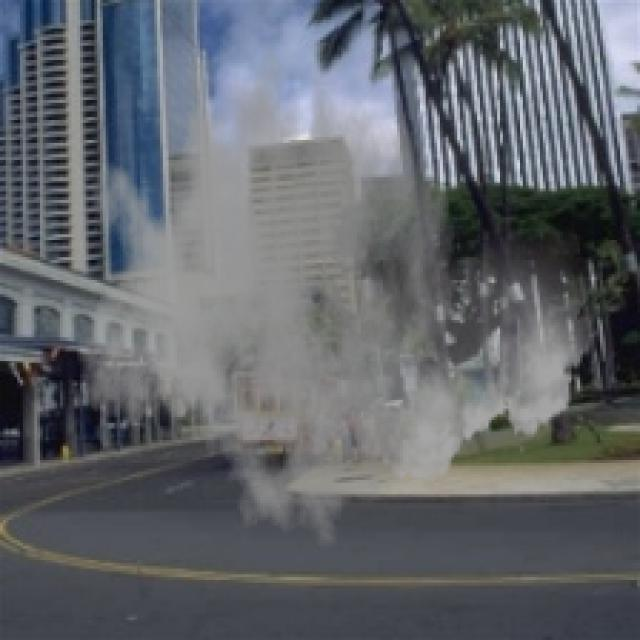Smoke: (74, 17, 600, 549)
